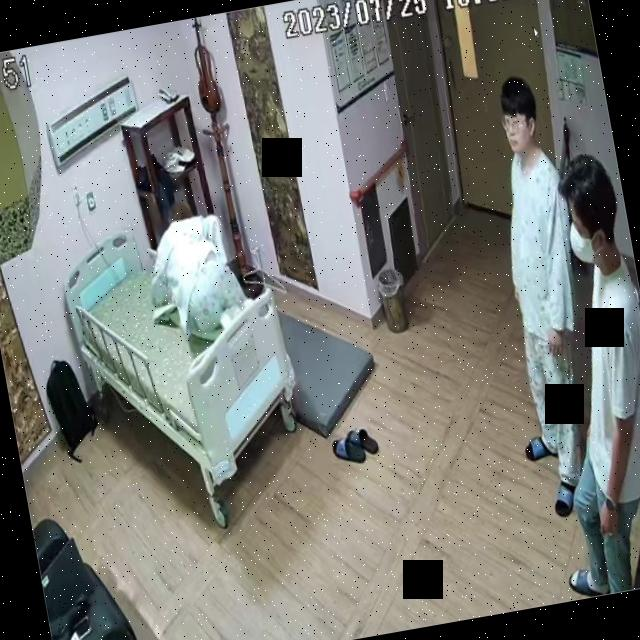fall: (135, 192, 249, 342)
patient: (460, 68, 618, 522), (136, 193, 248, 340)
stand: (461, 70, 617, 522), (497, 147, 640, 600)
